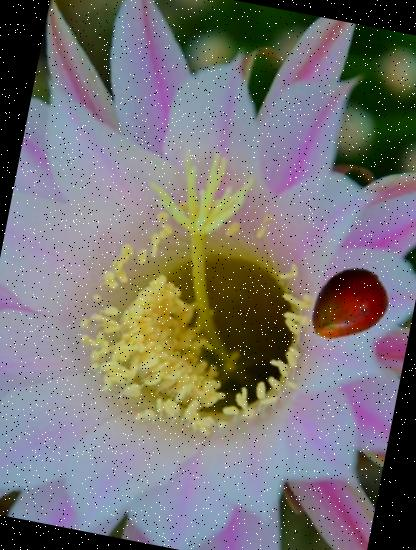Mango: (297, 256, 398, 356)
